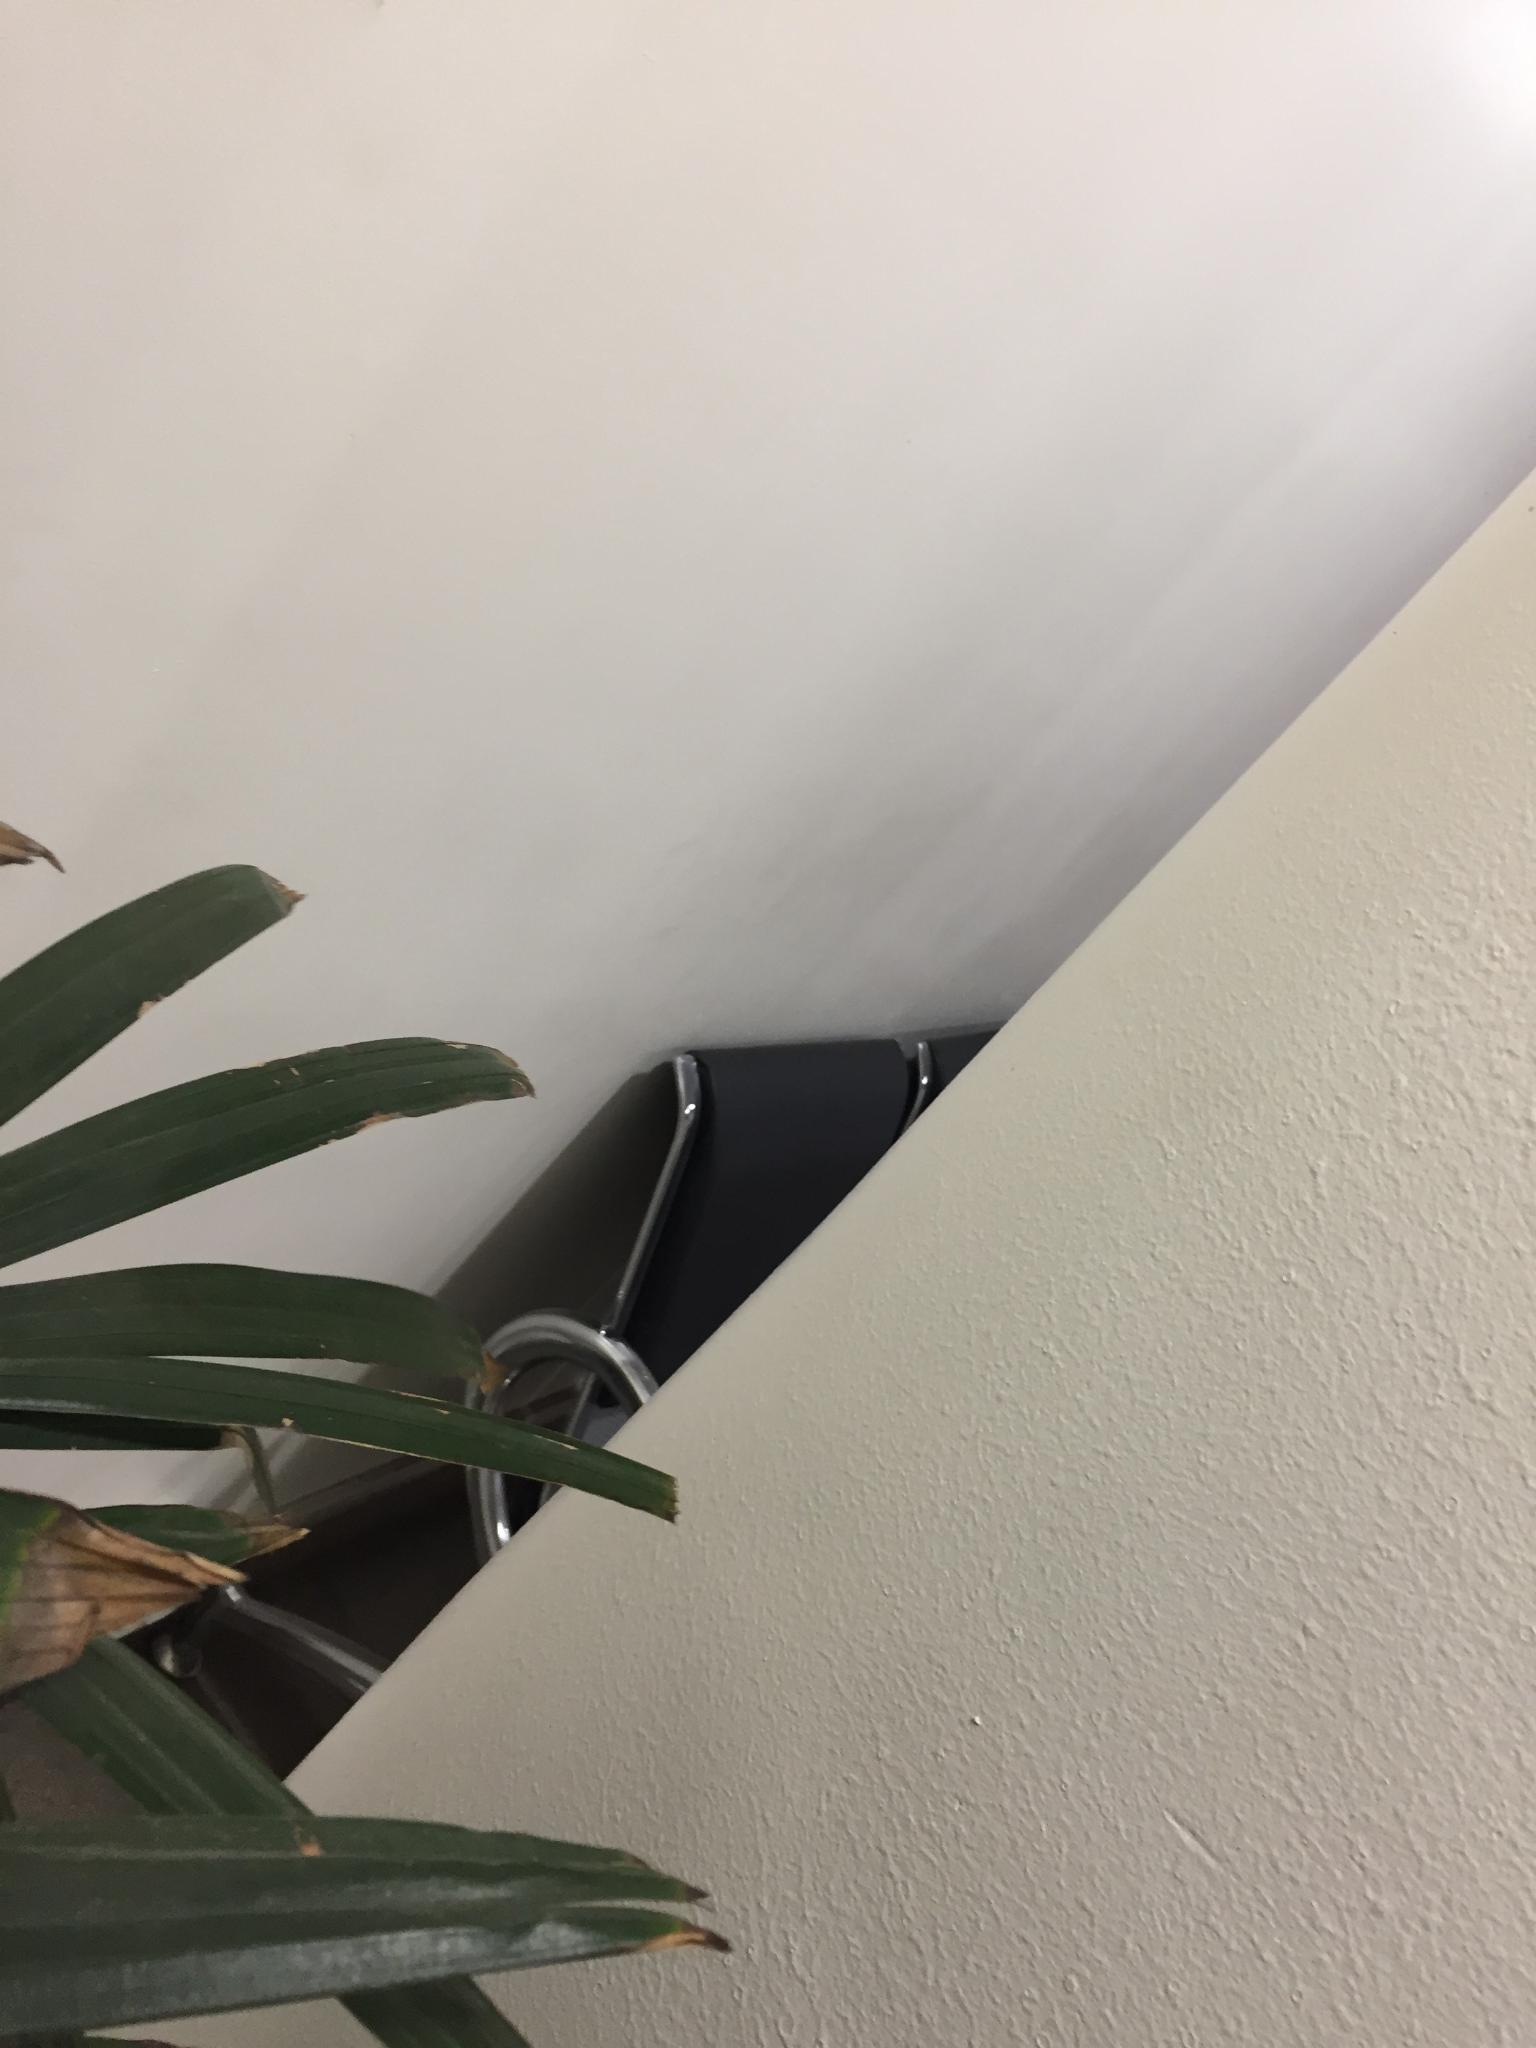chair: (115, 918, 1418, 1990)
